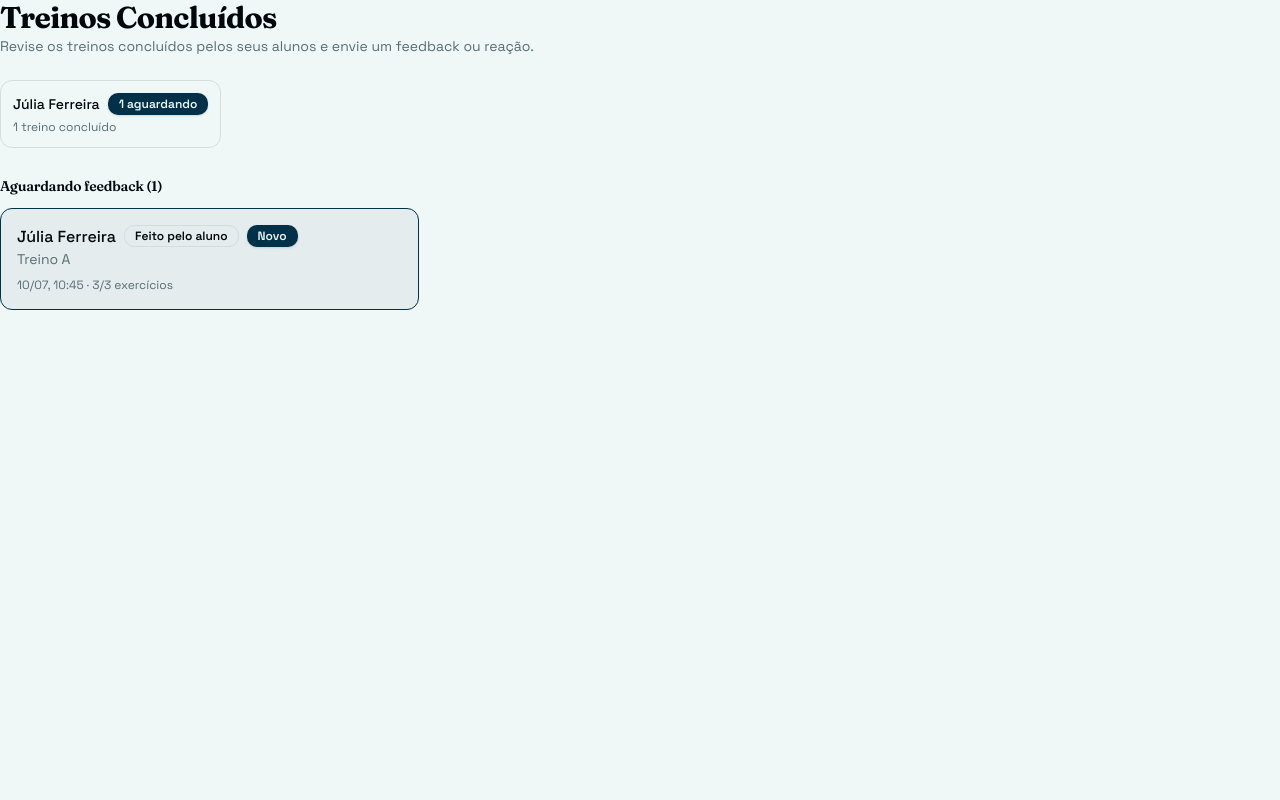
Test case: TreinosConcluidosPage › lets the personal confirm a check-in the student performed themselves
This screenshot has width=1280, height=800.
Later steps or results of the test are not shown.
Click the button with aria-label "Júlia Ferreira — Treino A".
click(67, 236)  # box x1=0 y1=208 x2=419 y2=310
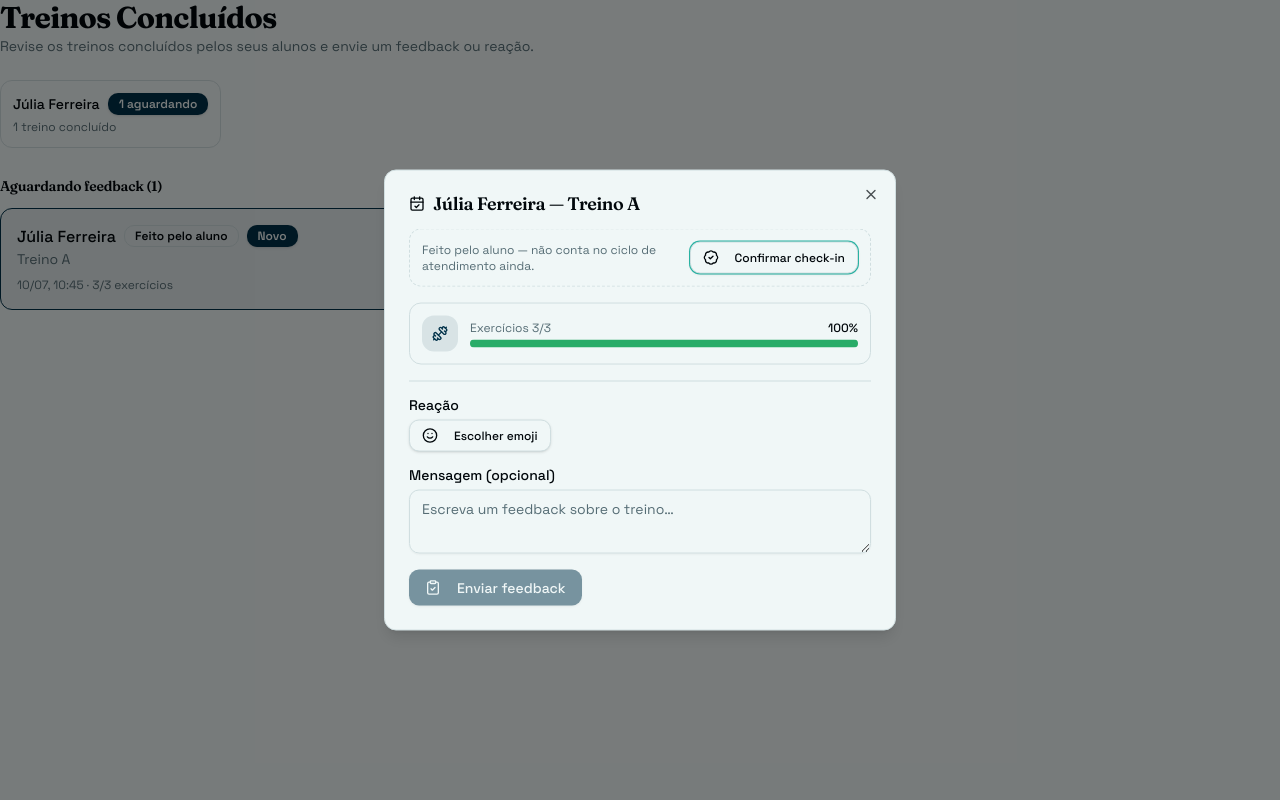
Check: the text "Feito pelo aluno — não conta no ciclo de atendimento ainda." is shown, box x1=422 y1=242 x2=682 y2=274
